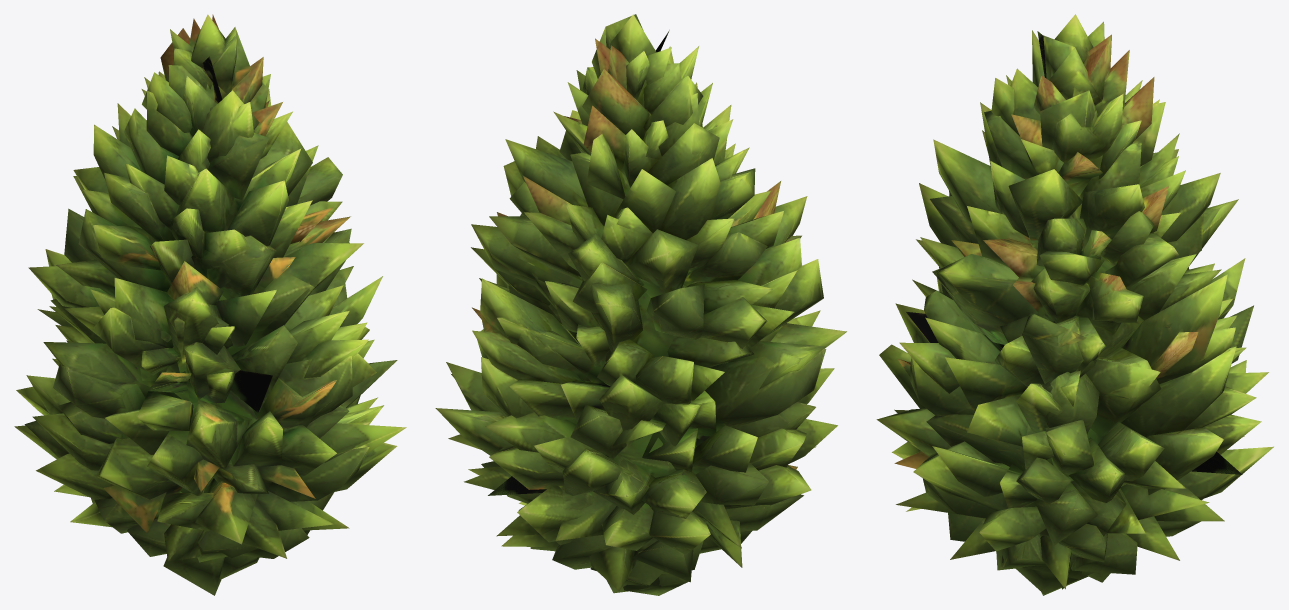
The model's file is harvested-bud.glb.
3 renders of one model, left to right at view 1: azimuth 30°, elevation 25°; view 2: azimuth 150°, elevation 25°; view 3: azimuth 270°, elevation 25°, orthographic. The views are drawn at different scales.
Size of the model in its own units: 0.6211 by 1 by 0.6152.
1 material, 1 textured.
